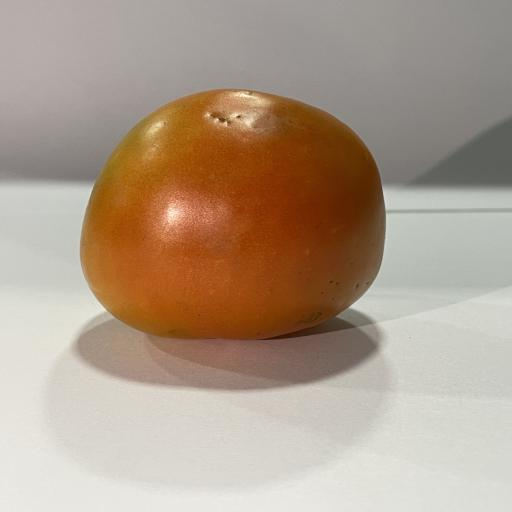unripe: (80, 89, 385, 339)
